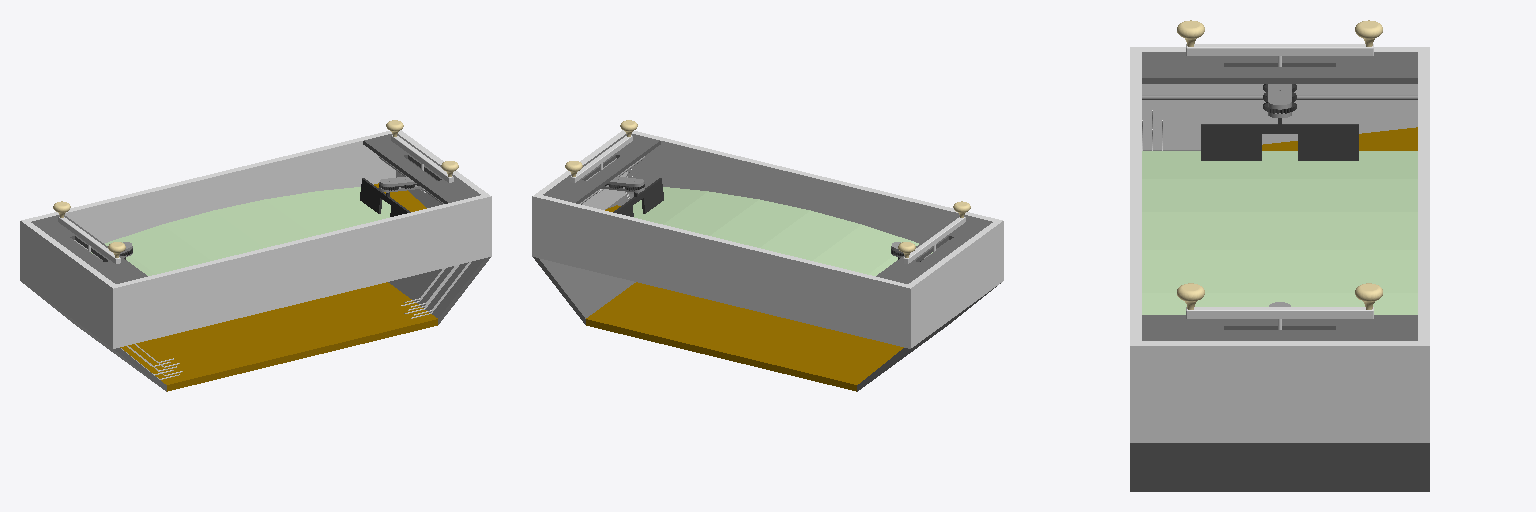
--- Facts derived from the render (not from the file) ---
Views: 3 orthographic renders of the robot side by side, from view 1: azimuth 30°, elevation 25°; view 2: azimuth 150°, elevation 25°; view 3: azimuth 270°, elevation 25°.
Model shootout_robot with 5 links and 4 joints (2 continuous, 2 prismatic), rooted at angle_wall_ball_catch, posed all joints at 0.
Visible links, largest first — view 1: angle_wall_ball_catch, other_ball_handle, gear_rod, other_paddle; view 2: angle_wall_ball_catch, other_ball_handle, gear_rod, other_paddle; view 3: angle_wall_ball_catch, paddle, gear_rod, other_ball_handle.
Boxes of the visible links, x1,y1,x2,y2 form: angle_wall_ball_catch: [20, 130, 491, 391]; other_ball_handle: [379, 120, 458, 192]; gear_rod: [53, 201, 132, 263]; other_paddle: [360, 178, 410, 216]; angle_wall_ball_catch: [532, 130, 1003, 391]; other_ball_handle: [565, 120, 644, 192]; gear_rod: [891, 201, 970, 263]; other_paddle: [613, 178, 663, 216]; angle_wall_ball_catch: [1130, 47, 1429, 491]; paddle: [1201, 118, 1358, 160]; gear_rod: [1177, 20, 1382, 117]; other_ball_handle: [1177, 283, 1382, 329].
Size in the robot's own frame: 1.51 by 0.64 by 0.5371 metres.
61 mesh visuals loaded from 61 distinct referenced files (61 binary STL).

The robot description file, URDF, robot "shootout_robot":
<?xml version="1.0" ?>
<!-- Generated using onshape-to-robot -->
<!-- Onshape https://cad.onshape.com/documents/e803f61fd7378df7db81a183/w/36ce3c529374e351e627bf1e/e/3d3a9ff97999c9efcbc3211d -->
<robot name="shootout_robot">
  <!-- Link angle_wall_ball_catch -->
  <link name="angle_wall_ball_catch">
    <inertial>
      <origin xyz="-1.54887e-14 1.03776e-05 -0.0452668" rpy="0 0 0"/>
      <mass value="45.9487"/>
      <inertia ixx="3.18407" ixy="-2.02549e-16" ixz="-3.13415e-12" iyy="11.4555" iyz="-0.00497854" izz="12.7025"/>
    </inertial>
    <!-- Part rail -->
    <visual>
      <origin xyz="0 0 0" rpy="0 -0 0"/>
      <geometry>
        <mesh filename="package://assets/rail.stl"/>
      </geometry>
      <material name="rail_material">
        <color rgba="0.901961 0.901961 0.901961 1"/>
      </material>
    </visual>
    <collision>
      <origin xyz="0 0 0" rpy="0 -0 0"/>
      <geometry>
        <mesh filename="package://assets/rail.stl"/>
      </geometry>
    </collision>
    <!-- Part other_angled_ball_return -->
    <visual>
      <origin xyz="0 0 0" rpy="0 -0 0"/>
      <geometry>
        <mesh filename="package://assets/other_angled_ball_return.stl"/>
      </geometry>
      <material name="other_angled_ball_return_material">
        <color rgba="0.65098 0.486275 0.0196078 1"/>
      </material>
    </visual>
    <collision>
      <origin xyz="0 0 0" rpy="0 -0 0"/>
      <geometry>
        <mesh filename="package://assets/other_angled_ball_return.stl"/>
      </geometry>
    </collision>
    <!-- Part other_back_wall -->
    <visual>
      <origin xyz="0 0 0" rpy="0 -0 0"/>
      <geometry>
        <mesh filename="package://assets/other_back_wall.stl"/>
      </geometry>
      <material name="other_back_wall_material">
        <color rgba="0.917647 0.917647 0.917647 1"/>
      </material>
    </visual>
    <collision>
      <origin xyz="0 0 0" rpy="0 -0 0"/>
      <geometry>
        <mesh filename="package://assets/other_back_wall.stl"/>
      </geometry>
    </collision>
    <!-- Part rib5 -->
    <visual>
      <origin xyz="0 0 0" rpy="0 -0 0"/>
      <geometry>
        <mesh filename="package://assets/rib5.stl"/>
      </geometry>
      <material name="rib5_material">
        <color rgba="0.65098 0.486275 0.0196078 1"/>
      </material>
    </visual>
    <collision>
      <origin xyz="0 0 0" rpy="0 -0 0"/>
      <geometry>
        <mesh filename="package://assets/rib5.stl"/>
      </geometry>
    </collision>
    <!-- Part rail_2 -->
    <visual>
      <origin xyz="0 0 0" rpy="0 -0 0"/>
      <geometry>
        <mesh filename="package://assets/rail__2.stl"/>
      </geometry>
      <material name="rail_2_material">
        <color rgba="0.901961 0.901961 0.901961 1"/>
      </material>
    </visual>
    <collision>
      <origin xyz="0 0 0" rpy="0 -0 0"/>
      <geometry>
        <mesh filename="package://assets/rail__2.stl"/>
      </geometry>
    </collision>
    <!-- Part rail_3 -->
    <visual>
      <origin xyz="0 0 0" rpy="0 -0 0"/>
      <geometry>
        <mesh filename="package://assets/rail__3.stl"/>
      </geometry>
      <material name="rail_3_material">
        <color rgba="0.901961 0.901961 0.901961 1"/>
      </material>
    </visual>
    <collision>
      <origin xyz="0 0 0" rpy="0 -0 0"/>
      <geometry>
        <mesh filename="package://assets/rail__3.stl"/>
      </geometry>
    </collision>
    <!-- Part long_wall -->
    <visual>
      <origin xyz="0 0 0" rpy="0 -0 0"/>
      <geometry>
        <mesh filename="package://assets/long_wall.stl"/>
      </geometry>
      <material name="long_wall_material">
        <color rgba="0.917647 0.917647 0.917647 1"/>
      </material>
    </visual>
    <collision>
      <origin xyz="0 0 0" rpy="0 -0 0"/>
      <geometry>
        <mesh filename="package://assets/long_wall.stl"/>
      </geometry>
    </collision>
    <!-- Part rail_4 -->
    <visual>
      <origin xyz="0 0 0" rpy="0 -0 0"/>
      <geometry>
        <mesh filename="package://assets/rail__4.stl"/>
      </geometry>
      <material name="rail_4_material">
        <color rgba="0.901961 0.901961 0.901961 1"/>
      </material>
    </visual>
    <collision>
      <origin xyz="0 0 0" rpy="0 -0 0"/>
      <geometry>
        <mesh filename="package://assets/rail__4.stl"/>
      </geometry>
    </collision>
    <!-- Part middle_ball_return_rail -->
    <visual>
      <origin xyz="0 0 0" rpy="0 -0 0"/>
      <geometry>
        <mesh filename="package://assets/middle_ball_return_rail.stl"/>
      </geometry>
      <material name="middle_ball_return_rail_material">
        <color rgba="0.901961 0.901961 0.901961 1"/>
      </material>
    </visual>
    <collision>
      <origin xyz="0 0 0" rpy="0 -0 0"/>
      <geometry>
        <mesh filename="package://assets/middle_ball_return_rail.stl"/>
      </geometry>
    </collision>
    <!-- Part underboard -->
    <visual>
      <origin xyz="0 0 0" rpy="0 -0 0"/>
      <geometry>
        <mesh filename="package://assets/underboard.stl"/>
      </geometry>
      <material name="underboard_material">
        <color rgba="0.65098 0.486275 0.0196078 1"/>
      </material>
    </visual>
    <collision>
      <origin xyz="0 0 0" rpy="0 -0 0"/>
      <geometry>
        <mesh filename="package://assets/underboard.stl"/>
      </geometry>
    </collision>
    <!-- Part linear_rod -->
    <visual>
      <origin xyz="0 0 0" rpy="0 -0 0"/>
      <geometry>
        <mesh filename="package://assets/linear_rod.stl"/>
      </geometry>
      <material name="linear_rod_material">
        <color rgba="0.647059 0.647059 0.647059 1"/>
      </material>
    </visual>
    <collision>
      <origin xyz="0 0 0" rpy="0 -0 0"/>
      <geometry>
        <mesh filename="package://assets/linear_rod.stl"/>
      </geometry>
    </collision>
    <!-- Part rib5_2 -->
    <visual>
      <origin xyz="0 0 0" rpy="0 -0 0"/>
      <geometry>
        <mesh filename="package://assets/rib5__2.stl"/>
      </geometry>
      <material name="rib5_2_material">
        <color rgba="0.65098 0.486275 0.0196078 1"/>
      </material>
    </visual>
    <collision>
      <origin xyz="0 0 0" rpy="0 -0 0"/>
      <geometry>
        <mesh filename="package://assets/rib5__2.stl"/>
      </geometry>
    </collision>
    <!-- Part rib4 -->
    <visual>
      <origin xyz="0 0 0" rpy="0 -0 0"/>
      <geometry>
        <mesh filename="package://assets/rib4.stl"/>
      </geometry>
      <material name="rib4_material">
        <color rgba="0.65098 0.486275 0.0196078 1"/>
      </material>
    </visual>
    <collision>
      <origin xyz="0 0 0" rpy="0 -0 0"/>
      <geometry>
        <mesh filename="package://assets/rib4.stl"/>
      </geometry>
    </collision>
    <!-- Part rib3 -->
    <visual>
      <origin xyz="0 0 0" rpy="0 -0 0"/>
      <geometry>
        <mesh filename="package://assets/rib3.stl"/>
      </geometry>
      <material name="rib3_material">
        <color rgba="0.65098 0.486275 0.0196078 1"/>
      </material>
    </visual>
    <collision>
      <origin xyz="0 0 0" rpy="0 -0 0"/>
      <geometry>
        <mesh filename="package://assets/rib3.stl"/>
      </geometry>
    </collision>
    <!-- Part other_long_wall -->
    <visual>
      <origin xyz="0 0 0" rpy="0 -0 0"/>
      <geometry>
        <mesh filename="package://assets/other_long_wall.stl"/>
      </geometry>
      <material name="other_long_wall_material">
        <color rgba="0.917647 0.917647 0.917647 1"/>
      </material>
    </visual>
    <collision>
      <origin xyz="0 0 0" rpy="0 -0 0"/>
      <geometry>
        <mesh filename="package://assets/other_long_wall.stl"/>
      </geometry>
    </collision>
    <!-- Part angle_wall_ball_catch -->
    <visual>
      <origin xyz="0 0 0" rpy="0 -0 0"/>
      <geometry>
        <mesh filename="package://assets/angle_wall_ball_catch.stl"/>
      </geometry>
      <material name="angle_wall_ball_catch_material">
        <color rgba="0.498039 0.498039 0.498039 1"/>
      </material>
    </visual>
    <collision>
      <origin xyz="0 0 0" rpy="0 -0 0"/>
      <geometry>
        <mesh filename="package://assets/angle_wall_ball_catch.stl"/>
      </geometry>
    </collision>
    <!-- Part rail_5 -->
    <visual>
      <origin xyz="0 0 0" rpy="0 -0 0"/>
      <geometry>
        <mesh filename="package://assets/rail__5.stl"/>
      </geometry>
      <material name="rail_5_material">
        <color rgba="0.901961 0.901961 0.901961 1"/>
      </material>
    </visual>
    <collision>
      <origin xyz="0 0 0" rpy="0 -0 0"/>
      <geometry>
        <mesh filename="package://assets/rail__5.stl"/>
      </geometry>
    </collision>
    <!-- Part top_down_rail -->
    <visual>
      <origin xyz="0 0 0" rpy="0 -0 0"/>
      <geometry>
        <mesh filename="package://assets/top_down_rail.stl"/>
      </geometry>
      <material name="top_down_rail_material">
        <color rgba="0.901961 0.901961 0.901961 1"/>
      </material>
    </visual>
    <collision>
      <origin xyz="0 0 0" rpy="0 -0 0"/>
      <geometry>
        <mesh filename="package://assets/top_down_rail.stl"/>
      </geometry>
    </collision>
    <!-- Part tabletop -->
    <visual>
      <origin xyz="0 0 0" rpy="0 -0 0"/>
      <geometry>
        <mesh filename="package://assets/tabletop.stl"/>
      </geometry>
      <material name="tabletop_material">
        <color rgba="0.796078 0.905882 0.745098 1"/>
      </material>
    </visual>
    <collision>
      <origin xyz="0 0 0" rpy="0 -0 0"/>
      <geometry>
        <mesh filename="package://assets/tabletop.stl"/>
      </geometry>
    </collision>
    <!-- Part top_wall -->
    <visual>
      <origin xyz="0 0 0" rpy="0 -0 0"/>
      <geometry>
        <mesh filename="package://assets/top_wall.stl"/>
      </geometry>
      <material name="top_wall_material">
        <color rgba="0.498039 0.498039 0.498039 1"/>
      </material>
    </visual>
    <collision>
      <origin xyz="0 0 0" rpy="0 -0 0"/>
      <geometry>
        <mesh filename="package://assets/top_wall.stl"/>
      </geometry>
    </collision>
    <!-- Part top_ball_return_rail -->
    <visual>
      <origin xyz="0 0 0" rpy="0 -0 0"/>
      <geometry>
        <mesh filename="package://assets/top_ball_return_rail.stl"/>
      </geometry>
      <material name="top_ball_return_rail_material">
        <color rgba="0.901961 0.901961 0.901961 1"/>
      </material>
    </visual>
    <collision>
      <origin xyz="0 0 0" rpy="0 -0 0"/>
      <geometry>
        <mesh filename="package://assets/top_ball_return_rail.stl"/>
      </geometry>
    </collision>
    <!-- Part other_top_wall -->
    <visual>
      <origin xyz="0 0 0" rpy="0 -0 0"/>
      <geometry>
        <mesh filename="package://assets/other_top_wall.stl"/>
      </geometry>
      <material name="other_top_wall_material">
        <color rgba="0.498039 0.498039 0.498039 1"/>
      </material>
    </visual>
    <collision>
      <origin xyz="0 0 0" rpy="0 -0 0"/>
      <geometry>
        <mesh filename="package://assets/other_top_wall.stl"/>
      </geometry>
    </collision>
    <!-- Part back_wall -->
    <visual>
      <origin xyz="0 0 0" rpy="0 -0 0"/>
      <geometry>
        <mesh filename="package://assets/back_wall.stl"/>
      </geometry>
      <material name="back_wall_material">
        <color rgba="0.917647 0.917647 0.917647 1"/>
      </material>
    </visual>
    <collision>
      <origin xyz="0 0 0" rpy="0 -0 0"/>
      <geometry>
        <mesh filename="package://assets/back_wall.stl"/>
      </geometry>
    </collision>
    <!-- Part bottom_wide_rail -->
    <visual>
      <origin xyz="0 0 0" rpy="0 -0 0"/>
      <geometry>
        <mesh filename="package://assets/bottom_wide_rail.stl"/>
      </geometry>
      <material name="bottom_wide_rail_material">
        <color rgba="0.901961 0.901961 0.901961 1"/>
      </material>
    </visual>
    <collision>
      <origin xyz="0 0 0" rpy="0 -0 0"/>
      <geometry>
        <mesh filename="package://assets/bottom_wide_rail.stl"/>
      </geometry>
    </collision>
    <!-- Part base_board -->
    <visual>
      <origin xyz="0 0 0" rpy="0 -0 0"/>
      <geometry>
        <mesh filename="package://assets/base_board.stl"/>
      </geometry>
      <material name="base_board_material">
        <color rgba="0.65098 0.486275 0.0196078 1"/>
      </material>
    </visual>
    <collision>
      <origin xyz="0 0 0" rpy="0 -0 0"/>
      <geometry>
        <mesh filename="package://assets/base_board.stl"/>
      </geometry>
    </collision>
    <!-- Part rail_6 -->
    <visual>
      <origin xyz="0 0 0" rpy="0 -0 0"/>
      <geometry>
        <mesh filename="package://assets/rail__6.stl"/>
      </geometry>
      <material name="rail_6_material">
        <color rgba="0.901961 0.901961 0.901961 1"/>
      </material>
    </visual>
    <collision>
      <origin xyz="0 0 0" rpy="0 -0 0"/>
      <geometry>
        <mesh filename="package://assets/rail__6.stl"/>
      </geometry>
    </collision>
    <!-- Part rail_7 -->
    <visual>
      <origin xyz="0 0 0" rpy="0 -0 0"/>
      <geometry>
        <mesh filename="package://assets/rail__7.stl"/>
      </geometry>
      <material name="rail_7_material">
        <color rgba="0.901961 0.901961 0.901961 1"/>
      </material>
    </visual>
    <collision>
      <origin xyz="0 0 0" rpy="0 -0 0"/>
      <geometry>
        <mesh filename="package://assets/rail__7.stl"/>
      </geometry>
    </collision>
    <!-- Part bottom_down_rail -->
    <visual>
      <origin xyz="0 0 0" rpy="0 -0 0"/>
      <geometry>
        <mesh filename="package://assets/bottom_down_rail.stl"/>
      </geometry>
      <material name="bottom_down_rail_material">
        <color rgba="0.901961 0.901961 0.901961 1"/>
      </material>
    </visual>
    <collision>
      <origin xyz="0 0 0" rpy="0 -0 0"/>
      <geometry>
        <mesh filename="package://assets/bottom_down_rail.stl"/>
      </geometry>
    </collision>
    <!-- Part rib1 -->
    <visual>
      <origin xyz="0 0 0" rpy="0 -0 0"/>
      <geometry>
        <mesh filename="package://assets/rib1.stl"/>
      </geometry>
      <material name="rib1_material">
        <color rgba="0.65098 0.486275 0.0196078 1"/>
      </material>
    </visual>
    <collision>
      <origin xyz="0 0 0" rpy="0 -0 0"/>
      <geometry>
        <mesh filename="package://assets/rib1.stl"/>
      </geometry>
    </collision>
    <!-- Part rib2 -->
    <visual>
      <origin xyz="0 0 0" rpy="0 -0 0"/>
      <geometry>
        <mesh filename="package://assets/rib2.stl"/>
      </geometry>
      <material name="rib2_material">
        <color rgba="0.65098 0.486275 0.0196078 1"/>
      </material>
    </visual>
    <collision>
      <origin xyz="0 0 0" rpy="0 -0 0"/>
      <geometry>
        <mesh filename="package://assets/rib2.stl"/>
      </geometry>
    </collision>
    <!-- Part rib2_2 -->
    <visual>
      <origin xyz="0 0 0" rpy="0 -0 0"/>
      <geometry>
        <mesh filename="package://assets/rib2__2.stl"/>
      </geometry>
      <material name="rib2_2_material">
        <color rgba="0.65098 0.486275 0.0196078 1"/>
      </material>
    </visual>
    <collision>
      <origin xyz="0 0 0" rpy="0 -0 0"/>
      <geometry>
        <mesh filename="package://assets/rib2__2.stl"/>
      </geometry>
    </collision>
    <!-- Part rib1_2 -->
    <visual>
      <origin xyz="0 0 0" rpy="0 -0 0"/>
      <geometry>
        <mesh filename="package://assets/rib1__2.stl"/>
      </geometry>
      <material name="rib1_2_material">
        <color rgba="0.65098 0.486275 0.0196078 1"/>
      </material>
    </visual>
    <collision>
      <origin xyz="0 0 0" rpy="0 -0 0"/>
      <geometry>
        <mesh filename="package://assets/rib1__2.stl"/>
      </geometry>
    </collision>
    <!-- Part bottom_ball_return_rail -->
    <visual>
      <origin xyz="0 0 0" rpy="0 -0 0"/>
      <geometry>
        <mesh filename="package://assets/bottom_ball_return_rail.stl"/>
      </geometry>
      <material name="bottom_ball_return_rail_material">
        <color rgba="0.901961 0.901961 0.901961 1"/>
      </material>
    </visual>
    <collision>
      <origin xyz="0 0 0" rpy="0 -0 0"/>
      <geometry>
        <mesh filename="package://assets/bottom_ball_return_rail.stl"/>
      </geometry>
    </collision>
    <!-- Part ball_return_short_slant_wood -->
    <visual>
      <origin xyz="0 0 0" rpy="0 -0 0"/>
      <geometry>
        <mesh filename="package://assets/ball_return_short_slant_wood.stl"/>
      </geometry>
      <material name="ball_return_short_slant_wood_material">
        <color rgba="0.65098 0.486275 0.0196078 1"/>
      </material>
    </visual>
    <collision>
      <origin xyz="0 0 0" rpy="0 -0 0"/>
      <geometry>
        <mesh filename="package://assets/ball_return_short_slant_wood.stl"/>
      </geometry>
    </collision>
    <!-- Part other_linear_rod -->
    <visual>
      <origin xyz="0 0 0" rpy="0 -0 0"/>
      <geometry>
        <mesh filename="package://assets/other_linear_rod.stl"/>
      </geometry>
      <material name="other_linear_rod_material">
        <color rgba="0.647059 0.647059 0.647059 1"/>
      </material>
    </visual>
    <collision>
      <origin xyz="0 0 0" rpy="0 -0 0"/>
      <geometry>
        <mesh filename="package://assets/other_linear_rod.stl"/>
      </geometry>
    </collision>
    <!-- Part other_angle_wall_ball_catch -->
    <visual>
      <origin xyz="0 0 0" rpy="0 -0 0"/>
      <geometry>
        <mesh filename="package://assets/other_angle_wall_ball_catch.stl"/>
      </geometry>
      <material name="other_angle_wall_ball_catch_material">
        <color rgba="0.498039 0.498039 0.498039 1"/>
      </material>
    </visual>
    <collision>
      <origin xyz="0 0 0" rpy="0 -0 0"/>
      <geometry>
        <mesh filename="package://assets/other_angle_wall_ball_catch.stl"/>
      </geometry>
    </collision>
    <!-- Part middle_ball_return_rail_2 -->
    <visual>
      <origin xyz="0 0 0" rpy="0 -0 0"/>
      <geometry>
        <mesh filename="package://assets/middle_ball_return_rail__2.stl"/>
      </geometry>
      <material name="middle_ball_return_rail_2_material">
        <color rgba="0.901961 0.901961 0.901961 1"/>
      </material>
    </visual>
    <collision>
      <origin xyz="0 0 0" rpy="0 -0 0"/>
      <geometry>
        <mesh filename="package://assets/middle_ball_return_rail__2.stl"/>
      </geometry>
    </collision>
    <!-- Part ball_return_slant_wood -->
    <visual>
      <origin xyz="0 0 0" rpy="0 -0 0"/>
      <geometry>
        <mesh filename="package://assets/ball_return_slant_wood.stl"/>
      </geometry>
      <material name="ball_return_slant_wood_material">
        <color rgba="0.65098 0.486275 0.0196078 1"/>
      </material>
    </visual>
    <collision>
      <origin xyz="0 0 0" rpy="0 -0 0"/>
      <geometry>
        <mesh filename="package://assets/ball_return_slant_wood.stl"/>
      </geometry>
    </collision>
    <!-- Part other_short_angled_ball_return -->
    <visual>
      <origin xyz="0 0 0" rpy="0 -0 0"/>
      <geometry>
        <mesh filename="package://assets/other_short_angled_ball_return.stl"/>
      </geometry>
      <material name="other_short_angled_ball_return_material">
        <color rgba="0.65098 0.486275 0.0196078 1"/>
      </material>
    </visual>
    <collision>
      <origin xyz="0 0 0" rpy="0 -0 0"/>
      <geometry>
        <mesh filename="package://assets/other_short_angled_ball_return.stl"/>
      </geometry>
    </collision>
    <!-- Part rib3_2 -->
    <visual>
      <origin xyz="0 0 0" rpy="0 -0 0"/>
      <geometry>
        <mesh filename="package://assets/rib3__2.stl"/>
      </geometry>
      <material name="rib3_2_material">
        <color rgba="0.65098 0.486275 0.0196078 1"/>
      </material>
    </visual>
    <collision>
      <origin xyz="0 0 0" rpy="0 -0 0"/>
      <geometry>
        <mesh filename="package://assets/rib3__2.stl"/>
      </geometry>
    </collision>
    <!-- Part rib4_2 -->
    <visual>
      <origin xyz="0 0 0" rpy="0 -0 0"/>
      <geometry>
        <mesh filename="package://assets/rib4__2.stl"/>
      </geometry>
      <material name="rib4_2_material">
        <color rgba="0.65098 0.486275 0.0196078 1"/>
      </material>
    </visual>
    <collision>
      <origin xyz="0 0 0" rpy="0 -0 0"/>
      <geometry>
        <mesh filename="package://assets/rib4__2.stl"/>
      </geometry>
    </collision>
  </link>
  <!-- Link gear_rod -->
  <link name="gear_rod">
    <inertial>
      <origin xyz="0.0329514 -0.0823027 -1.0226e-12" rpy="0 0 0"/>
      <mass value="1.61912"/>
      <inertia ixx="0.023996" ixy="-0.00233582" ixz="5.89651e-14" iyy="0.0237724" iyz="8.14593e-14" izz="0.00900981"/>
    </inertial>
    <!-- Part spur_gear__25_teeth -->
    <visual>
      <origin xyz="0.663 0.106396 -2.77556e-17" rpy="1.5708 -0 0"/>
      <geometry>
        <mesh filename="package://assets/spur_gear__25_teeth.stl"/>
      </geometry>
      <material name="spur_gear__25_teeth_material">
        <color rgba="0.301961 0.301961 0.301961 1"/>
      </material>
    </visual>
    <collision>
      <origin xyz="0.663 0.106396 -2.77556e-17" rpy="1.5708 -0 0"/>
      <geometry>
        <mesh filename="package://assets/spur_gear__25_teeth.stl"/>
      </geometry>
    </collision>
    <!-- Part left_spinner_handle -->
    <visual>
      <origin xyz="0.663 0.106396 -2.77556e-17" rpy="1.5708 -0 0"/>
      <geometry>
        <mesh filename="package://assets/left_spinner_handle.stl"/>
      </geometry>
      <material name="left_spinner_handle_material">
        <color rgba="0.941176 0.87451 0.678431 1"/>
      </material>
    </visual>
    <collision>
      <origin xyz="0.663 0.106396 -2.77556e-17" rpy="1.5708 -0 0"/>
      <geometry>
        <mesh filename="package://assets/left_spinner_handle.stl"/>
      </geometry>
    </collision>
    <!-- Part linear_rod_holder -->
    <visual>
      <origin xyz="0.663 0.106396 -2.77556e-17" rpy="1.5708 -0 0"/>
      <geometry>
        <mesh filename="package://assets/linear_rod_holder.stl"/>
      </geometry>
      <material name="linear_rod_holder_material">
        <color rgba="0.901961 0.901961 0.901961 1"/>
      </material>
    </visual>
    <collision>
      <origin xyz="0.663 0.106396 -2.77556e-17" rpy="1.5708 -0 0"/>
      <geometry>
        <mesh filename="package://assets/linear_rod_holder.stl"/>
      </geometry>
    </collision>
    <!-- Part gear_rod -->
    <visual>
      <origin xyz="0.663 0.106396 -2.77556e-17" rpy="1.5708 -0 0"/>
      <geometry>
        <mesh filename="package://assets/gear_rod.stl"/>
      </geometry>
      <material name="gear_rod_material">
        <color rgba="0.647059 0.647059 0.647059 1"/>
      </material>
    </visual>
    <collision>
      <origin xyz="0.663 0.106396 -2.77556e-17" rpy="1.5708 -0 0"/>
      <geometry>
        <mesh filename="package://assets/gear_rod.stl"/>
      </geometry>
    </collision>
    <!-- Part spur_gear__25_teeth_2 -->
    <visual>
      <origin xyz="0.663 0.106396 -2.77556e-17" rpy="1.5708 -0 0"/>
      <geometry>
        <mesh filename="package://assets/spur_gear__25_teeth__2.stl"/>
      </geometry>
      <material name="spur_gear__25_teeth_2_material">
        <color rgba="0.301961 0.301961 0.301961 1"/>
      </material>
    </visual>
    <collision>
      <origin xyz="0.663 0.106396 -2.77556e-17" rpy="1.5708 -0 0"/>
      <geometry>
        <mesh filename="package://assets/spur_gear__25_teeth__2.stl"/>
      </geometry>
    </collision>
    <!-- Part spur_gear__25_teeth_3 -->
    <visual>
      <origin xyz="0.663 0.106396 -2.77556e-17" rpy="1.5708 -0 0"/>
      <geometry>
        <mesh filename="package://assets/spur_gear__25_teeth__3.stl"/>
      </geometry>
      <material name="spur_gear__25_teeth_3_material">
        <color rgba="0.301961 0.301961 0.301961 1"/>
      </material>
    </visual>
    <collision>
      <origin xyz="0.663 0.106396 -2.77556e-17" rpy="1.5708 -0 0"/>
      <geometry>
        <mesh filename="package://assets/spur_gear__25_teeth__3.stl"/>
      </geometry>
    </collision>
    <!-- Part handle_crossbeam -->
    <visual>
      <origin xyz="0.663 0.106396 -2.77556e-17" rpy="1.5708 -0 0"/>
      <geometry>
        <mesh filename="package://assets/handle_crossbeam.stl"/>
      </geometry>
      <material name="handle_crossbeam_material">
        <color rgba="0.917647 0.917647 0.917647 1"/>
      </material>
    </visual>
    <collision>
      <origin xyz="0.663 0.106396 -2.77556e-17" rpy="1.5708 -0 0"/>
      <geometry>
        <mesh filename="package://assets/handle_crossbeam.stl"/>
      </geometry>
    </collision>
    <!-- Part right_spinner_handle -->
    <visual>
      <origin xyz="0.663 0.106396 -2.77556e-17" rpy="1.5708 -0 0"/>
      <geometry>
        <mesh filename="package://assets/right_spinner_handle.stl"/>
      </geometry>
      <material name="right_spinner_handle_material">
        <color rgba="0.941176 0.87451 0.678431 1"/>
      </material>
    </visual>
    <collision>
      <origin xyz="0.663 0.106396 -2.77556e-17" rpy="1.5708 -0 0"/>
      <geometry>
        <mesh filename="package://assets/right_spinner_handle.stl"/>
      </geometry>
    </collision>
    <!-- Part gear_rod_top -->
    <visual>
      <origin xyz="0.663 0.106396 -2.77556e-17" rpy="1.5708 -0 0"/>
      <geometry>
        <mesh filename="package://assets/gear_rod_top.stl"/>
      </geometry>
      <material name="gear_rod_top_material">
        <color rgba="0.647059 0.647059 0.647059 1"/>
      </material>
    </visual>
    <collision>
      <origin xyz="0.663 0.106396 -2.77556e-17" rpy="1.5708 -0 0"/>
      <geometry>
        <mesh filename="package://assets/gear_rod_top.stl"/>
      </geometry>
    </collision>
  </link>
  <!-- Link paddle -->
  <link name="paddle">
    <inertial>
      <origin xyz="0 -7.03367e-19 -0.0624481" rpy="0 0 0"/>
      <mass value="0.60886"/>
      <inertia ixx="0.00711965" ixy="-1.24956e-37" ixz="1.91889e-19" iyy="0.00035598" iyz="-9.65649e-37" izz="0.00677382"/>
    </inertial>
    <!-- Part paddle -->
    <visual>
      <origin xyz="0.507245 3.83404e-66 -0.195903" rpy="1.51593e-34 0.122173 6.74428e-53"/>
      <geometry>
        <mesh filename="package://assets/paddle.stl"/>
      </geometry>
      <material name="paddle_material">
        <color rgba="0.301961 0.301961 0.301961 1"/>
      </material>
    </visual>
    <!-- Collision: two bars at y = ±103 mm, each 130×10×80 mm -->
    <collision>
      <origin xyz="0.0 0.103 -0.065" rpy="0 0.0 1.57"/>
      <geometry><box size="0.130 0.010 0.080"/></geometry>
    </collision>
    <collision>
      <origin xyz="0.0 -0.103 -0.065" rpy="0 0.0 1.57"/>
      <geometry><box size="0.130 0.010 0.080"/></geometry>
    </collision>
  </link>
  <!-- Joint from gear_rod to paddle -->
  <joint name="paddle" type="continuous">
    <origin xyz="0.135661 -0.0262285 -2.77556e-17" rpy="1.5708 -0 -0.122173"/>
    <parent link="gear_rod"/>
    <child link="paddle"/>
    <axis xyz="0 0 1"/>
    <limit effort="10" velocity="10"/>
  </joint>
  <!-- Joint from angle_wall_ball_catch to gear_rod -->
  <joint name="handle" type="prismatic">
    <origin xyz="-0.663 0 0.106396" rpy="-1.5708 -0 0"/>
    <parent link="angle_wall_ball_catch"/>
    <child link="gear_rod"/>
    <axis xyz="0 0 1"/>
    <limit effort="10" velocity="10" lower="-0.11" upper="0.11"/>
  </joint>
  <!-- Link other_ball_handle -->
  <link name="other_ball_handle">
    <inertial>
      <origin xyz="-0.0329514 -0.0823027 1.02253e-12" rpy="0 0 0"/>
      <mass value="1.61912"/>
      <inertia ixx="0.023996" ixy="0.00233582" ixz="5.89698e-14" iyy="0.0237724" iyz="-8.14583e-14" izz="0.00900981"/>
    </inertial>
    <!-- Part other_linear_rod_holder -->
    <visual>
      <origin xyz="-0.663 0.106396 -2.77556e-17" rpy="1.5708 -0 0"/>
      <geometry>
        <mesh filename="package://assets/other_linear_rod_holder.stl"/>
      </geometry>
      <material name="other_linear_rod_holder_material">
        <color rgba="0.901961 0.901961 0.901961 1"/>
      </material>
    </visual>
    <collision>
      <origin xyz="-0.663 0.106396 -2.77556e-17" rpy="1.5708 -0 0"/>
      <geometry>
        <mesh filename="package://assets/other_linear_rod_holder.stl"/>
      </geometry>
    </collision>
    <!-- Part spur_gear__25_teeth_4 -->
    <visual>
      <origin xyz="-0.663 0.106396 -2.77556e-17" rpy="1.5708 -0 0"/>
      <geometry>
        <mesh filename="package://assets/spur_gear__25_teeth__4.stl"/>
      </geometry>
      <material name="spur_gear__25_teeth_4_material">
        <color rgba="0.301961 0.301961 0.301961 1"/>
      </material>
    </visual>
    <collision>
      <origin xyz="-0.663 0.106396 -2.77556e-17" rpy="1.5708 -0 0"/>
      <geometry>
        <mesh filename="package://assets/spur_gear__25_teeth__4.stl"/>
      </geometry>
    </collision>
    <!-- Part other_ball_handle -->
    <visual>
      <origin xyz="-0.663 0.106396 -2.77556e-17" rpy="1.5708 -0 0"/>
      <geometry>
        <mesh filename="package://assets/other_ball_handle.stl"/>
      </geometry>
      <material name="other_ball_handle_material">
        <color rgba="0.941176 0.87451 0.678431 1"/>
      </material>
    </visual>
    <collision>
      <origin xyz="-0.663 0.106396 -2.77556e-17" rpy="1.5708 -0 0"/>
      <geometry>
        <mesh filename="package://assets/other_ball_handle.stl"/>
      </geometry>
    </collision>
    <!-- Part other_gear_rod_top -->
    <visual>
      <origin xyz="-0.663 0.106396 -2.77556e-17" rpy="1.5708 -0 0"/>
      <geometry>
        <mesh filename="package://assets/other_gear_rod_top.stl"/>
      </geometry>
      <material name="other_gear_rod_top_material">
        <color rgba="0.647059 0.647059 0.647059 1"/>
      </material>
    </visual>
    <collision>
      <origin xyz="-0.663 0.106396 -2.77556e-17" rpy="1.5708 -0 0"/>
      <geometry>
        <mesh filename="package://assets/other_gear_rod_top.stl"/>
      </geometry>
    </collision>
    <!-- Part other_crossbeam -->
    <visual>
      <origin xyz="-0.663 0.106396 -2.77556e-17" rpy="1.5708 -0 0"/>
      <geometry>
        <mesh filename="package://assets/other_crossbeam.stl"/>
      </geometry>
      <material name="other_crossbeam_material">
        <color rgba="0.917647 0.917647 0.917647 1"/>
      </material>
    </visual>
    <collision>
      <origin xyz="-0.663 0.106396 -2.77556e-17" rpy="1.5708 -0 0"/>
      <geometry>
        <mesh filename="package://assets/other_crossbeam.stl"/>
      </geometry>
    </collision>
    <!-- Part other_left_ball_handle -->
    <visual>
      <origin xyz="-0.663 0.106396 -2.77556e-17" rpy="1.5708 -0 0"/>
      <geometry>
        <mesh filename="package://assets/other_left_ball_handle.stl"/>
      </geometry>
      <material name="other_left_ball_handle_material">
        <color rgba="0.941176 0.87451 0.678431 1"/>
      </material>
    </visual>
    <collision>
      <origin xyz="-0.663 0.106396 -2.77556e-17" rpy="1.5708 -0 0"/>
      <geometry>
        <mesh filename="package://assets/other_left_ball_handle.stl"/>
      </geometry>
    </collision>
    <!-- Part spur_gear__25_teeth_5 -->
    <visual>
      <origin xyz="-0.663 0.106396 -2.77556e-17" rpy="1.5708 -0 0"/>
      <geometry>
        <mesh filename="package://assets/spur_gear__25_teeth__5.stl"/>
      </geometry>
      <material name="spur_gear__25_teeth_5_material">
        <color rgba="0.301961 0.301961 0.301961 1"/>
      </material>
    </visual>
    <collision>
      <origin xyz="-0.663 0.106396 -2.77556e-17" rpy="1.5708 -0 0"/>
      <geometry>
        <mesh filename="package://assets/spur_gear__25_teeth__5.stl"/>
      </geometry>
    </collision>
    <!-- Part other_gear_rod -->
    <visual>
      <origin xyz="-0.663 0.106396 -2.77556e-17" rpy="1.5708 -0 0"/>
      <geometry>
        <mesh filename="package://assets/other_gear_rod.stl"/>
      </geometry>
      <material name="other_gear_rod_material">
        <color rgba="0.647059 0.647059 0.647059 1"/>
      </material>
    </visual>
    <collision>
      <origin xyz="-0.663 0.106396 -2.77556e-17" rpy="1.5708 -0 0"/>
      <geometry>
        <mesh filename="package://assets/other_gear_rod.stl"/>
      </geometry>
    </collision>
    <!-- Part spur_gear__25_teeth_6 -->
    <visual>
      <origin xyz="-0.663 0.106396 -2.77556e-17" rpy="1.5708 -0 0"/>
      <geometry>
        <mesh filename="package://assets/spur_gear__25_teeth__6.stl"/>
      </geometry>
      <material name="spur_gear__25_teeth_6_material">
        <color rgba="0.301961 0.301961 0.301961 1"/>
      </material>
    </visual>
    <collision>
      <origin xyz="-0.663 0.106396 -2.77556e-17" rpy="1.5708 -0 0"/>
      <geometry>
        <mesh filename="package://assets/spur_gear__25_teeth__6.stl"/>
      </geometry>
    </collision>
  </link>
  <!-- Link other_paddle -->
  <link name="other_paddle">
    <inertial>
      <origin xyz="1.11022e-16 -2.32927e-19 -0.0624481" rpy="0 0 0"/>
      <mass value="0.60886"/>
      <inertia ixx="0.00711965" ixy="1.24956e-37" ixz="-1.91889e-19" iyy="0.00035598" iyz="-9.65649e-37" izz="0.00677382"/>
    </inertial>
    <!-- Part other_paddle -->
    <visual>
      <origin xyz="-0.507245 3.83404e-66 -0.195903" rpy="1.51593e-34 -0.122173 -6.74428e-53"/>
      <geometry>
        <mesh filename="package://assets/other_paddle.stl"/>
      </geometry>
      <material name="other_paddle_material">
        <color rgba="0.301961 0.301961 0.301961 1"/>
      </material>
    </visual>
    <!-- Collision: two bars at y = ±103 mm, each 130×10×80 mm -->
    <collision>
      <origin xyz="-0.0 0.103 -0.065" rpy="0 0.0 1.57"/>
      <geometry><box size="0.130 0.010 0.080"/></geometry>
    </collision>
    <collision>
      <origin xyz="-0.0 -0.103 -0.065" rpy="0 0.0 1.57"/>
      <geometry><box size="0.130 0.010 0.080"/></geometry>
    </collision>
  </link>
  <!-- Joint from other_ball_handle to other_paddle -->
  <joint name="opponent_paddle" type="continuous">
    <origin xyz="-0.135661 -0.0262285 -2.77556e-17" rpy="1.5708 -0 0.122173"/>
    <parent link="other_ball_handle"/>
    <child link="other_paddle"/>
    <axis xyz="0 0 1"/>
    <limit effort="10" velocity="10"/>
  </joint>
  <!-- Joint from angle_wall_ball_catch to other_ball_handle -->
  <joint name="opponent_handle" type="prismatic">
    <origin xyz="0.663 0 0.106396" rpy="-1.5708 -0 0"/>
    <parent link="angle_wall_ball_catch"/>
    <child link="other_ball_handle"/>
    <axis xyz="0 0 1"/>
    <limit effort="10" velocity="10" lower="-0.11" upper="0.11"/>
  </joint>
</robot>
